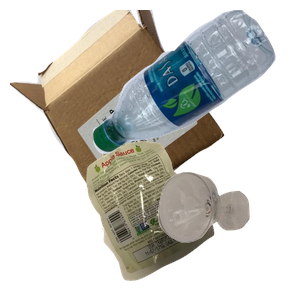cardboard: (10, 10, 227, 190)
glass: (156, 170, 300, 300)
plastic: (90, 10, 300, 156)
trash: (84, 126, 291, 300)
